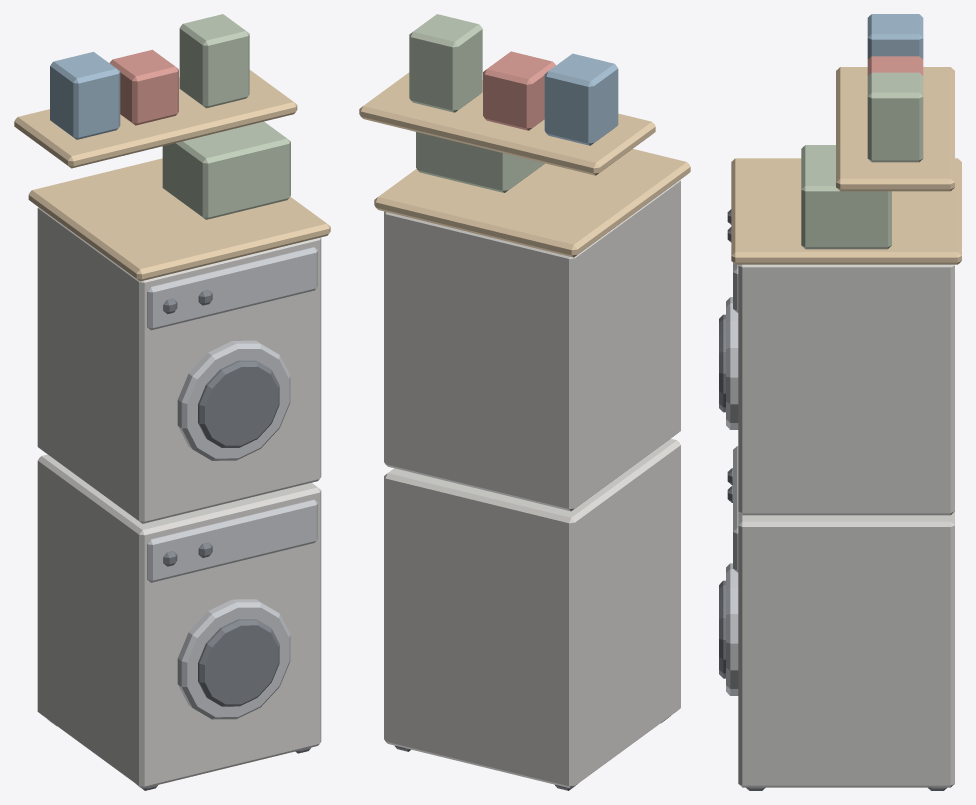
Rendered from StackedWasherDryer.glb.
The picture shows the model from 3 angles, left to right: view 1: azimuth 30°, elevation 25°; view 2: azimuth 150°, elevation 25°; view 3: azimuth 270°, elevation 25°; orthographic projection. The views are drawn at different scales.
Visible parts, largest first — view 1: SpaceSaver_StackedWasherDryer; view 2: SpaceSaver_StackedWasherDryer; view 3: SpaceSaver_StackedWasherDryer.
Boxes of the visible parts, box(x1,y1,x2,y2) form: SpaceSaver_StackedWasherDryer: box(14, 14, 330, 790); SpaceSaver_StackedWasherDryer: box(359, 14, 690, 790); SpaceSaver_StackedWasherDryer: box(719, 14, 961, 790).
Size of the model in its own units: 0.78 by 2.2 by 0.695.
